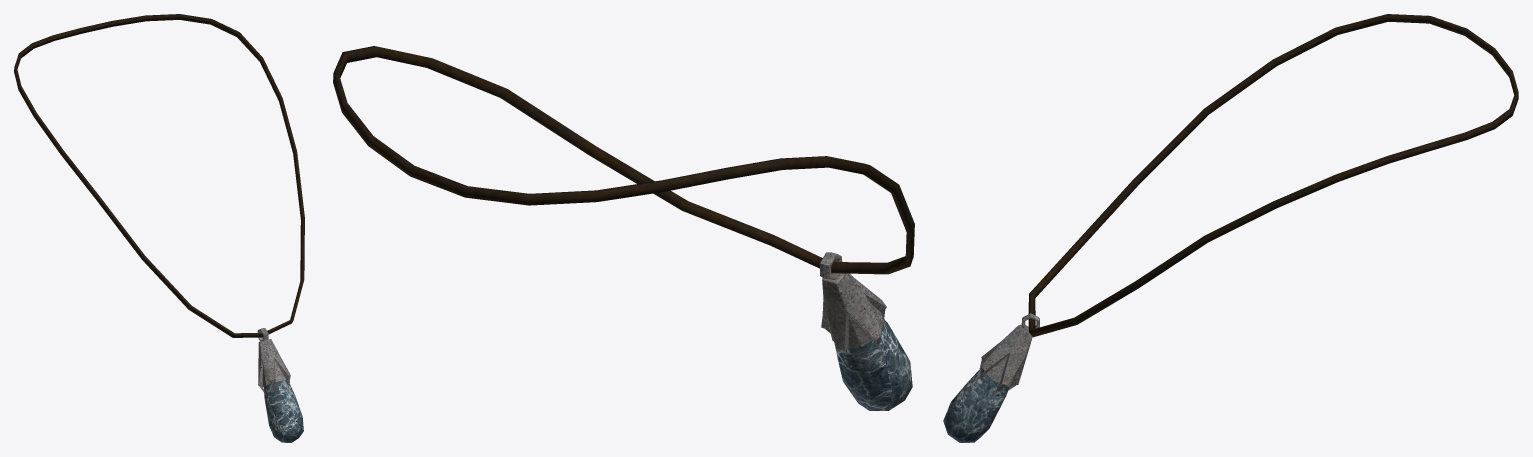
File: pendant.glb
The picture shows the model from 3 angles, left to right: view 1: azimuth 30°, elevation 25°; view 2: azimuth 150°, elevation 25°; view 3: azimuth 270°, elevation 25°; orthographic projection. The views are drawn at different scales.
Visible parts, largest first — view 1: Circle.001; view 2: Circle.001; view 3: Circle.001.
Part boxes in pixels (x1,y1,x2,y2): Circle.001: [14, 14, 304, 442]; Circle.001: [333, 46, 914, 410]; Circle.001: [943, 14, 1518, 442].
Size of the model in its own units: 2 by 2.27 by 3.28.
1 material, 1 textured.
